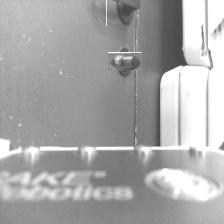Door Handle: (106, 0, 141, 26)
Lock: (112, 49, 139, 75)
